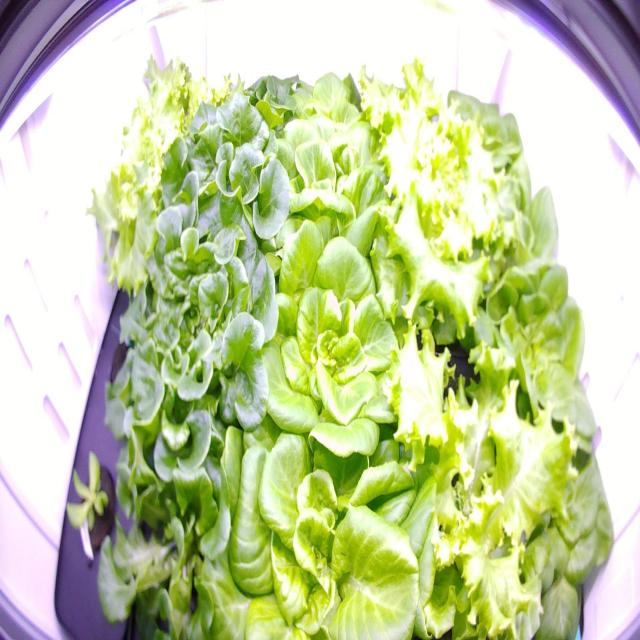young: (200, 383, 446, 639), (227, 190, 429, 474), (466, 411, 619, 639), (457, 254, 610, 466), (439, 156, 565, 311), (264, 103, 398, 236), (423, 71, 532, 197), (275, 56, 388, 158), (58, 437, 126, 567)
